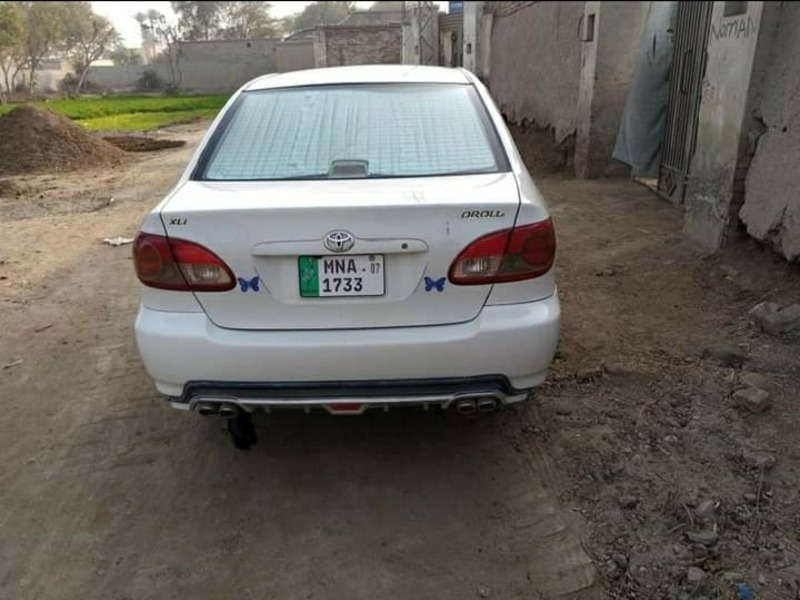License Plate: (294, 250, 387, 300)
